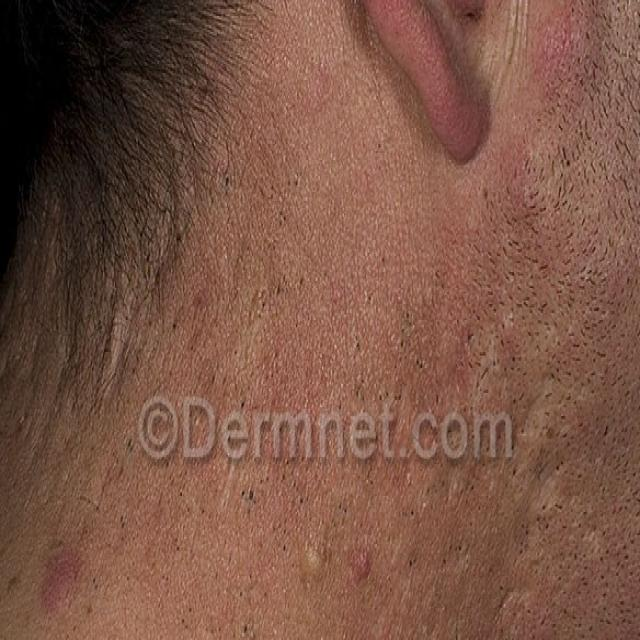Acne: (131, 194, 320, 466), (283, 528, 404, 640), (13, 512, 111, 640), (525, 12, 627, 104), (230, 50, 337, 136)
